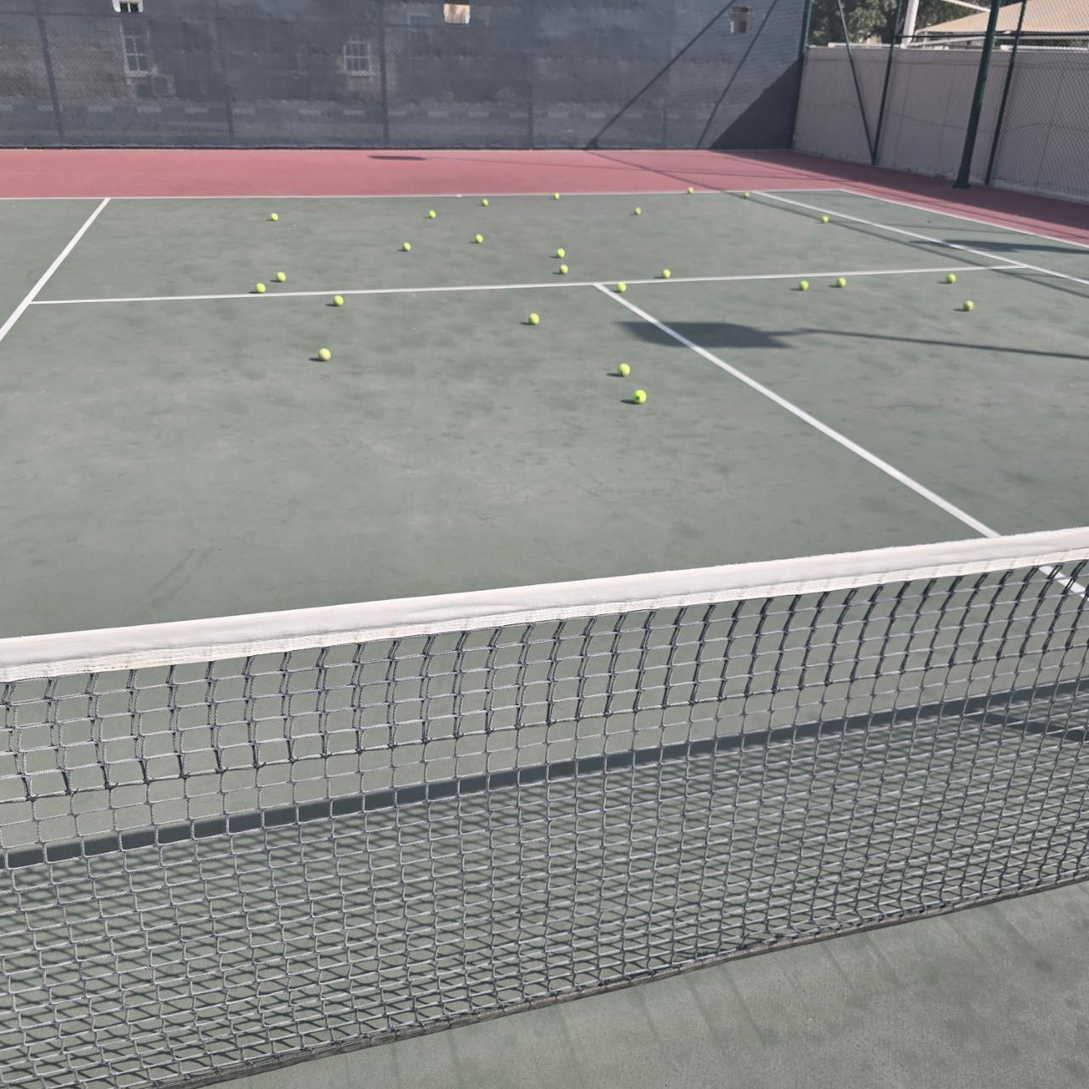tennis-ball: (632, 387, 647, 402), (617, 361, 630, 377), (318, 347, 331, 360), (527, 311, 539, 325), (962, 298, 974, 311), (835, 277, 847, 288), (333, 295, 344, 306), (255, 282, 266, 293), (798, 280, 809, 291), (276, 271, 286, 282), (946, 273, 956, 284), (661, 268, 671, 279), (559, 264, 569, 275), (556, 247, 565, 259), (617, 282, 626, 293), (402, 241, 411, 252), (475, 234, 484, 244), (271, 213, 279, 222), (428, 210, 436, 219), (821, 215, 829, 224), (482, 198, 489, 207), (553, 192, 560, 200), (634, 207, 641, 215), (687, 187, 694, 194), (744, 192, 750, 199)
